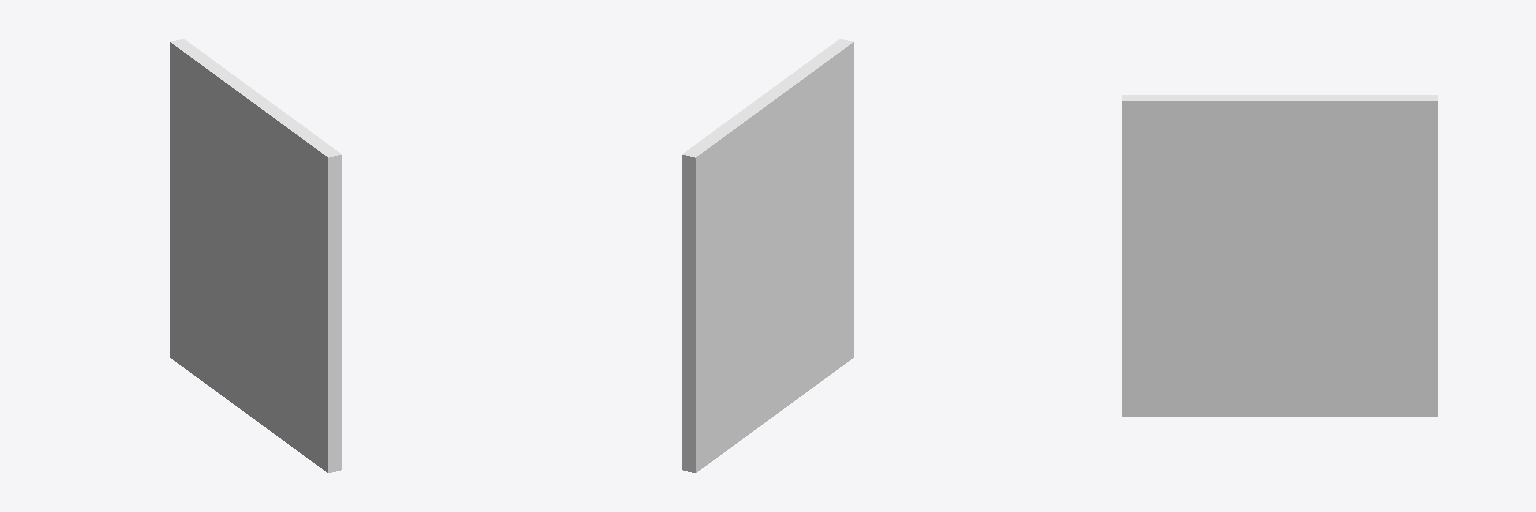
The model's file is YellowHouseParts-21.obj.
3 renders of one model, left to right at view 1: azimuth 30°, elevation 25°; view 2: azimuth 150°, elevation 25°; view 3: azimuth 270°, elevation 25°, orthographic.
Visible parts, largest first — view 1: object 1; view 2: object 1; view 3: object 1.
Part boxes in pixels (x1,y1,x2,y2): object 1: (170,39,341,472); object 1: (682,39,853,472); object 1: (1122,95,1437,416).
Size of the model in its own units: 0.1 by 2.2 by 2.